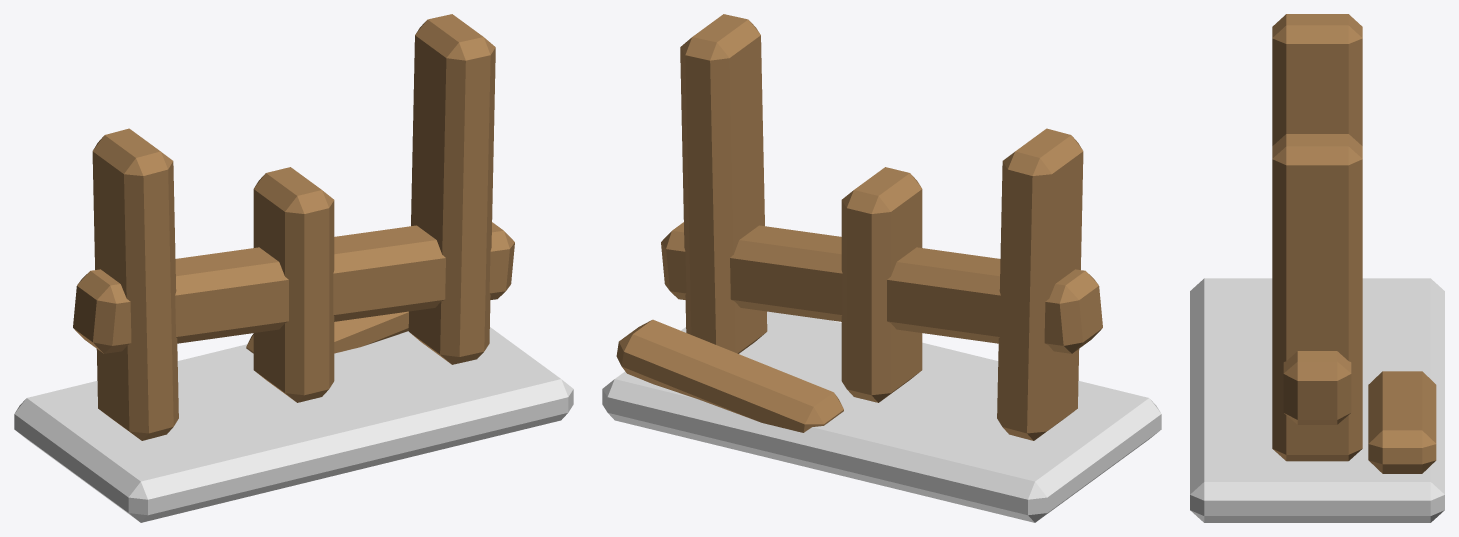
The model's file is barricada_partida.glb.
3 views of the same model, side by side, from view 1: azimuth 30°, elevation 25°; view 2: azimuth 150°, elevation 25°; view 3: azimuth 270°, elevation 25° (orthographic).
Visible parts, largest first — view 1: novo_barricada_partida; view 2: novo_barricada_partida; view 3: novo_barricada_partida.
Part boxes in pixels (box(x1,y1,x2,y2)): novo_barricada_partida: box(14, 14, 573, 522); novo_barricada_partida: box(602, 14, 1161, 522); novo_barricada_partida: box(1190, 14, 1444, 522).
Size of the model in its own units: 0.9 by 0.7005 by 0.45.
